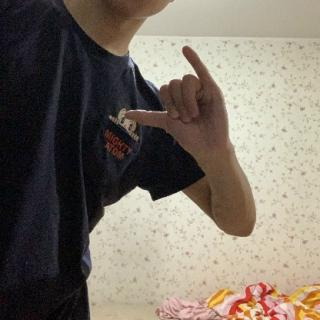YA: (119, 43, 234, 156)
